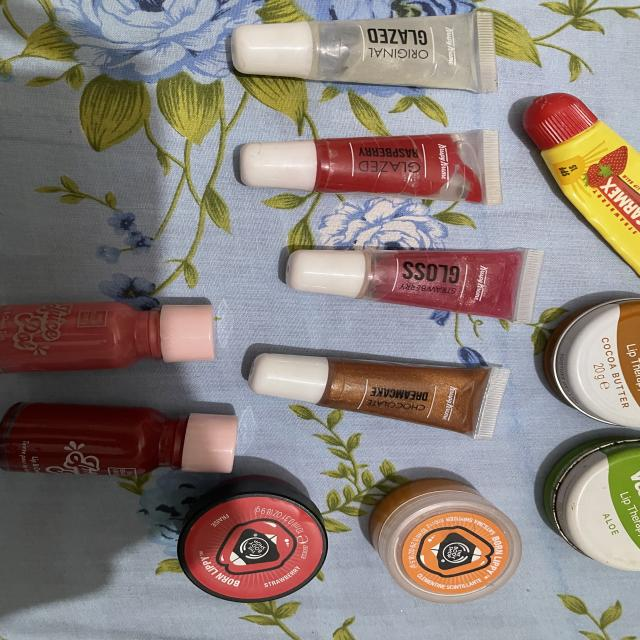Tint: (0, 396, 259, 487), (0, 288, 234, 385)
lip balm: (244, 329, 515, 448), (212, 7, 521, 104), (225, 116, 512, 213), (275, 231, 538, 327), (508, 81, 640, 271), (365, 475, 545, 605), (174, 482, 342, 616), (529, 282, 640, 437), (536, 424, 640, 584)
